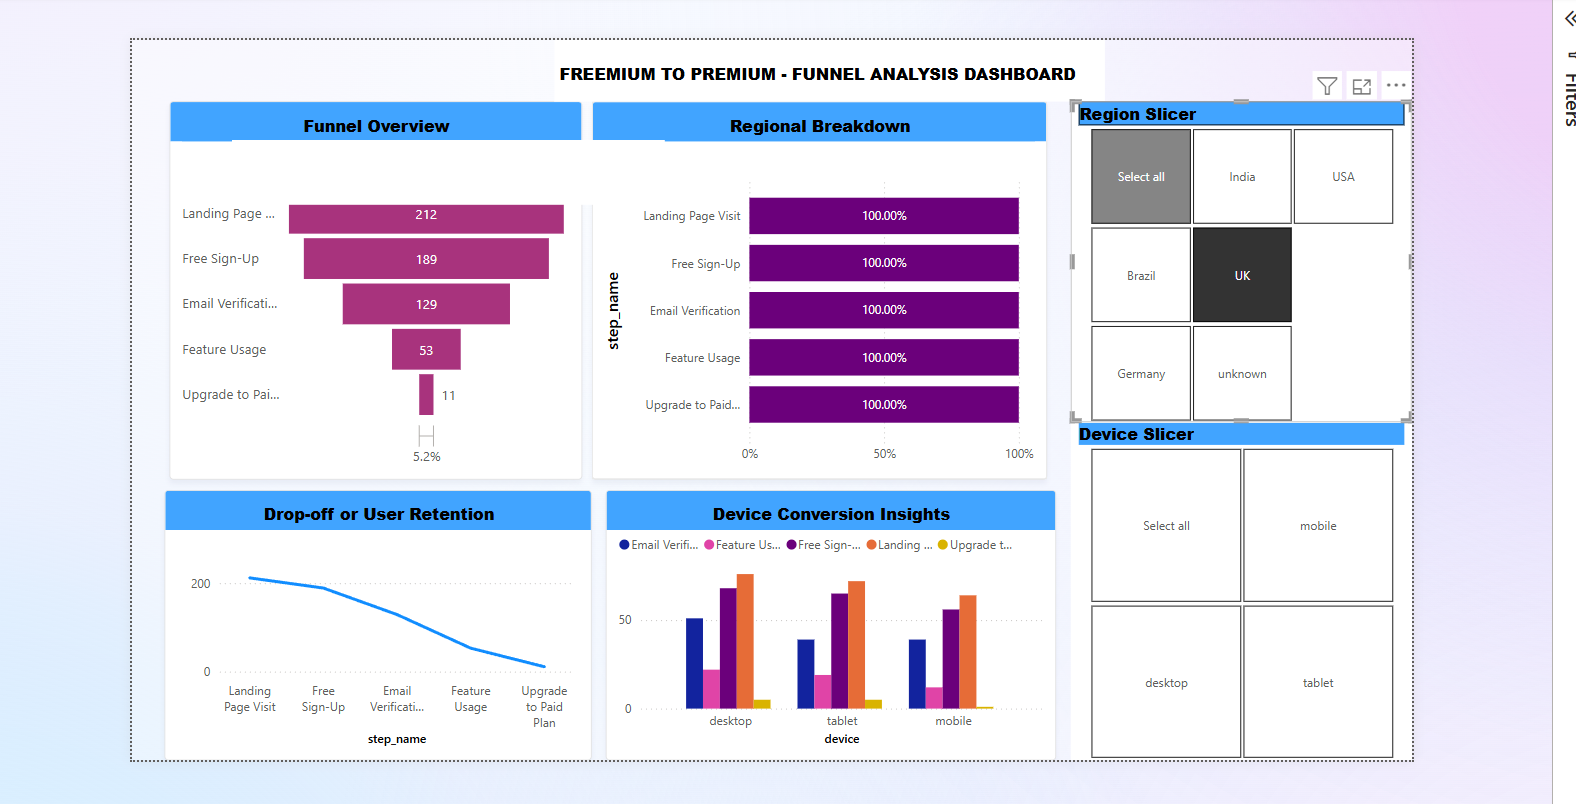

Layout of this report page (visuals, bound fields, positions):
{"tool":"powerbi","page":{"name":"Page 1","canvas":[1280,720],"ordinal":0},"visuals":[{"type":"funnel","title":"Funnel Overview","fields":{"Category":["extended_funnel.step_name","extended_funnel.user_id"],"Y":["CountNonNull(extended_funnel.user_id)"]},"box":[37.5,61.2,412.5,378.8],"z":0},{"type":"lineChart","title":"Drop-off or User Retention","fields":{"Category":["extended_funnel.step_name"],"Y":["CountNonNull(extended_funnel.user_id)"]},"box":[32.5,450,427.5,270],"z":1000},{"type":"hundredPercentStackedBarChart","title":"Regional Breakdown","fields":{"Category":["extended_funnel.step_name"],"Y":["CountNonNull(extended_funnel.user_id)"],"Series":["extended_funnel.region"]},"box":[460,61.2,455,378.8],"z":2000},{"type":"clusteredColumnChart","title":"Device Conversion Insights","fields":{"Category":["extended_funnel.device"],"Y":["CountNonNull(extended_funnel.user_id)"],"Series":["extended_funnel.step_name"]},"box":[473.8,450,450,270],"z":2001},{"type":"slicer","fields":{"Values":["extended_funnel.region"]},"box":[938.8,61.2,341.2,321.2],"z":2002},{"type":"slicer","fields":{"Values":["extended_funnel.device"]},"box":[938.8,382.5,341.2,337.5],"z":2003},{"type":"textbox","box":[422.5,0,550,61.2],"z":2004},{"type":"textbox","box":[100,100,432.5,65],"z":2005}]}

Visuals, with their boxes on the page's 1280x720 design canvas (x1, y1, x2, y2). These are canvas units, not pixel positions in the 1576x804 screenshot, which may show the page scaled, cropped or inside an application window:
"Funnel Overview" funnel: 38,61,450,440
"Drop-off or User Retention" lineChart: 32,450,460,720
"Regional Breakdown" hundredPercentStackedBarChart: 460,61,915,440
"Device Conversion Insights" clusteredColumnChart: 474,450,924,720
slicer - extended_funnel.region: 939,61,1280,382
slicer - extended_funnel.device: 939,382,1280,720
textbox: 422,0,972,61
textbox: 100,100,532,165
